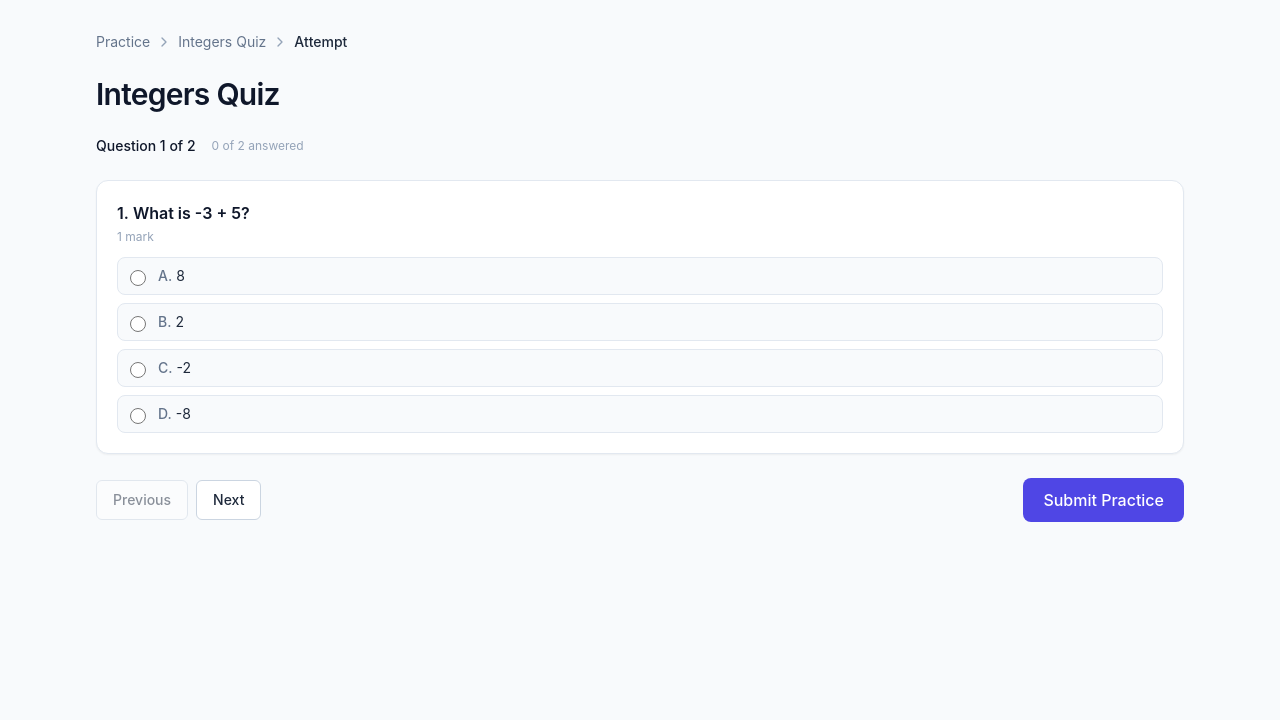
Attempt player (AttemptPage) › shows a submit error with retry without losing selections
Expected: the text "What is -3 + 5?" is shown, [133,203,250,223]
Click the radio button labelled "B. 2". click: (138, 324)
box: [130,316,146,332]
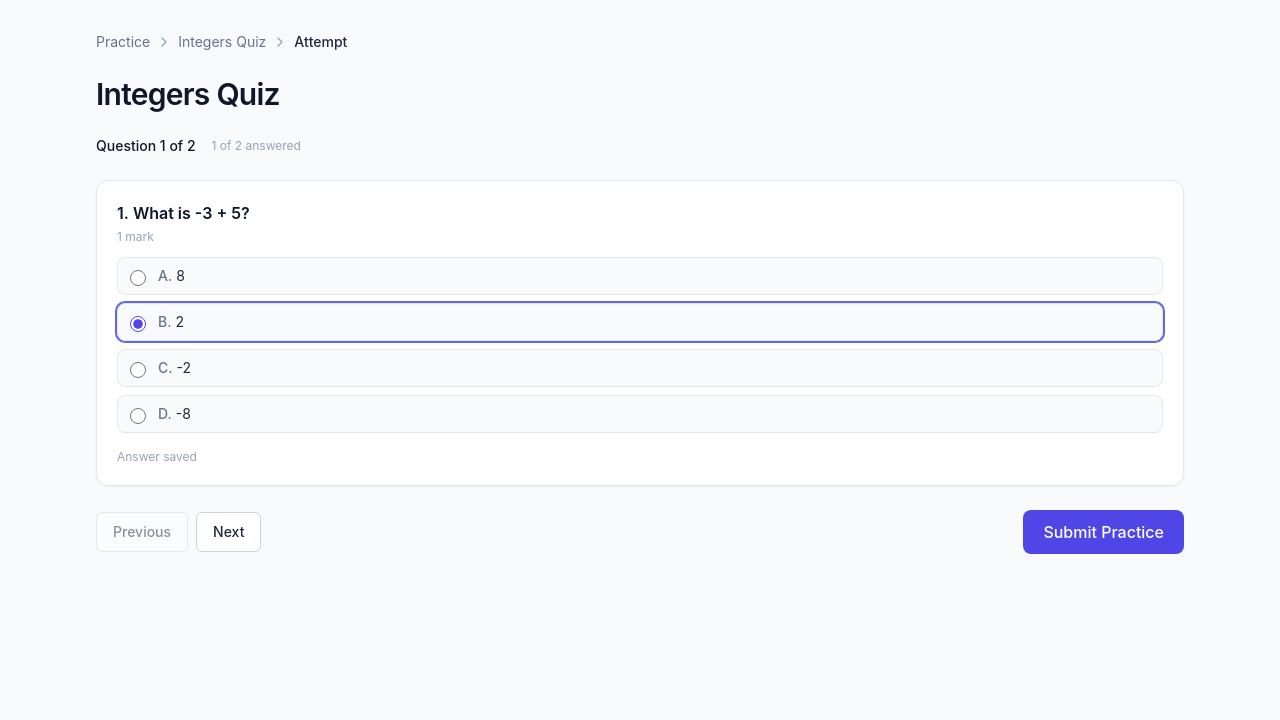
Click the button "Submit Practice". click: (1104, 532)
box: [1023,510,1184,554]
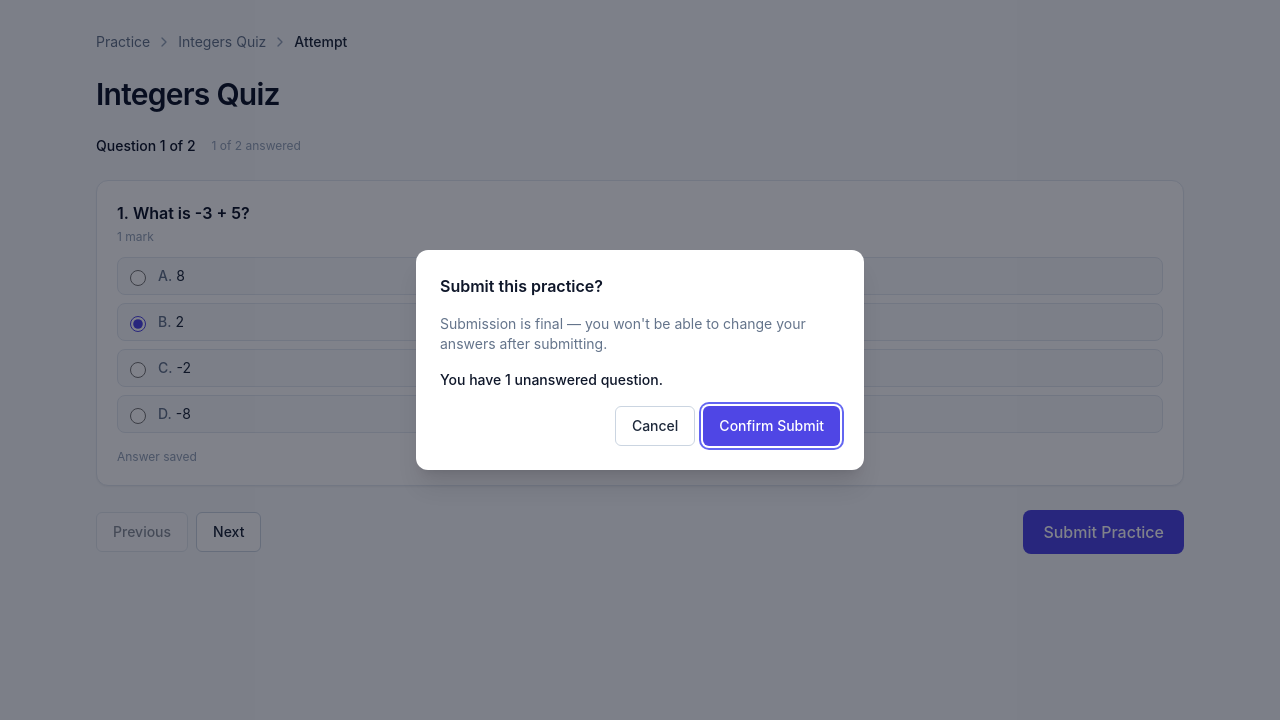
Click the button "Confirm Submit". click: (772, 426)
box: [703,406,840,446]
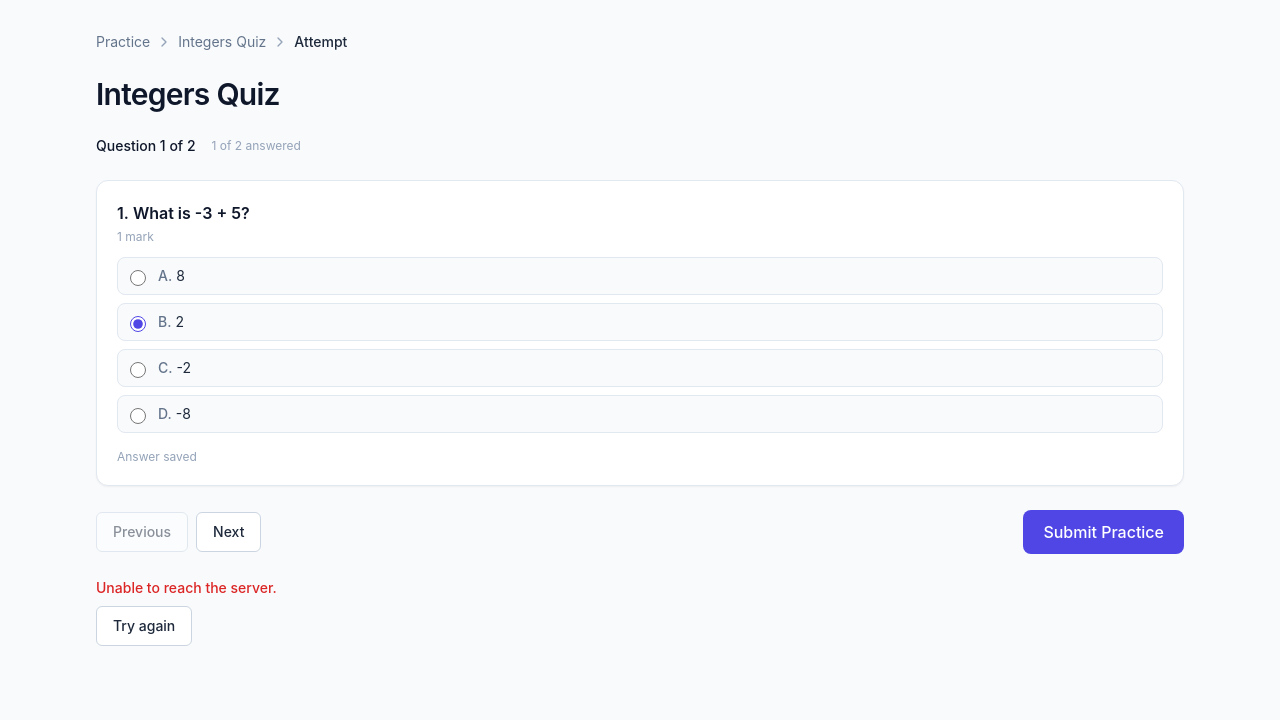
Now the message "Unable to reach the server. Try again" is shown, box [96,579,277,646]
Click the button "Try again". click: (144, 626)
box: [96,606,192,646]
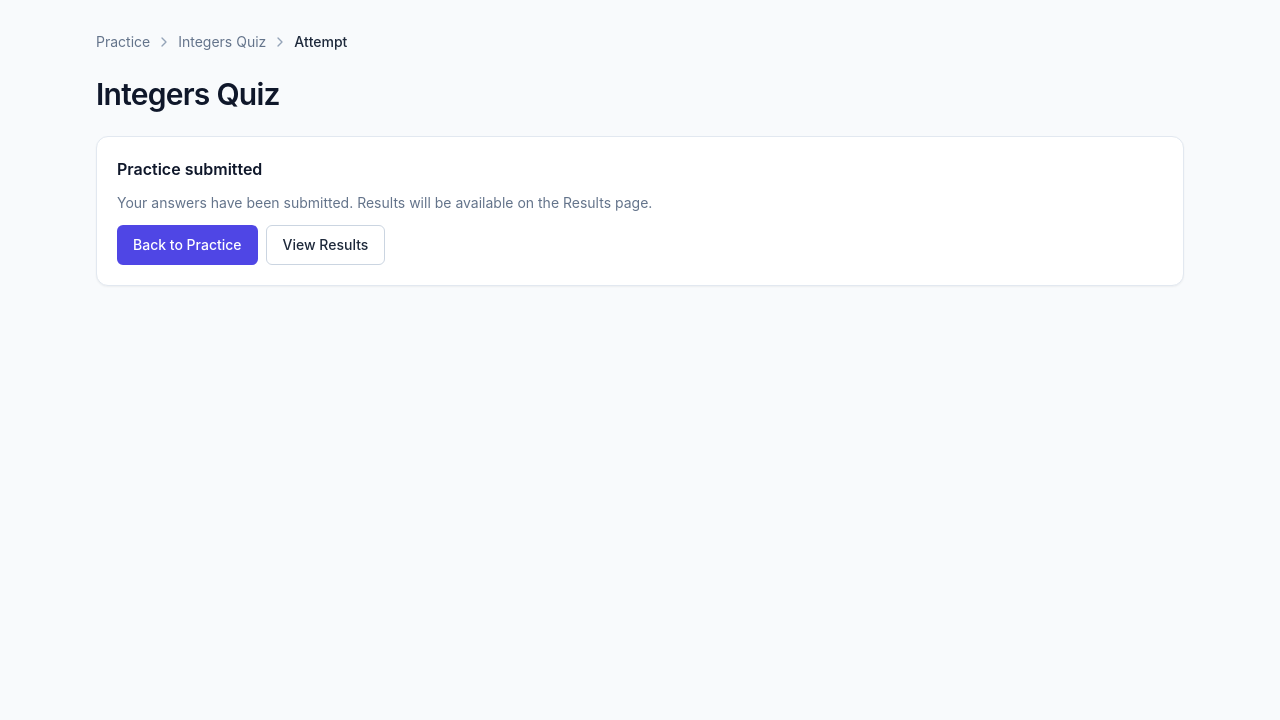
Now the heading "Practice submitted" is shown, box [117,159,262,179]
Now the text "Results will be available" is shown, box [117,194,652,211]
